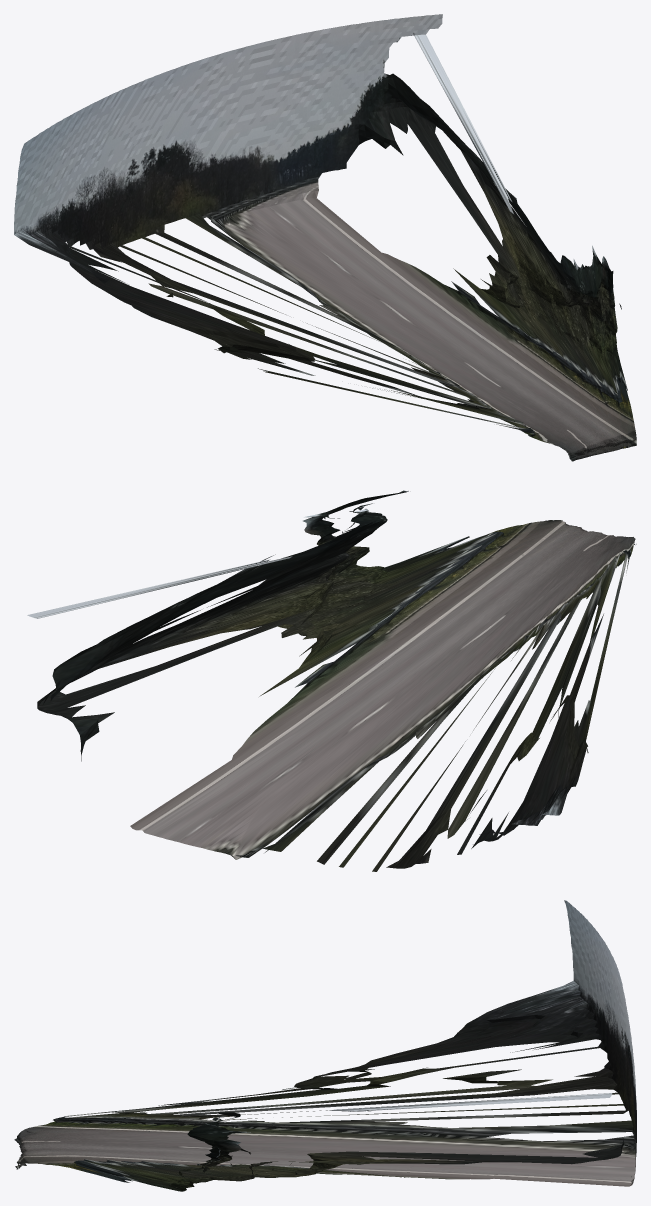
The picture shows the model from 3 angles, top to bottom: view 1: azimuth 30°, elevation 25°; view 2: azimuth 150°, elevation 25°; view 3: azimuth 270°, elevation 25°; orthographic projection. The views are drawn at different scales.
Parts seen in each view (by area): view 1: defaultobject; view 2: defaultobject; view 3: defaultobject.
Part boxes in pixels (box(x1,y1,x2,y2)): defaultobject: box(14, 14, 636, 461); defaultobject: box(27, 490, 636, 871); defaultobject: box(14, 900, 636, 1191).
Size of the model in its own units: 32.9 by 12.46 by 44.49.
1 material, 1 textured.
